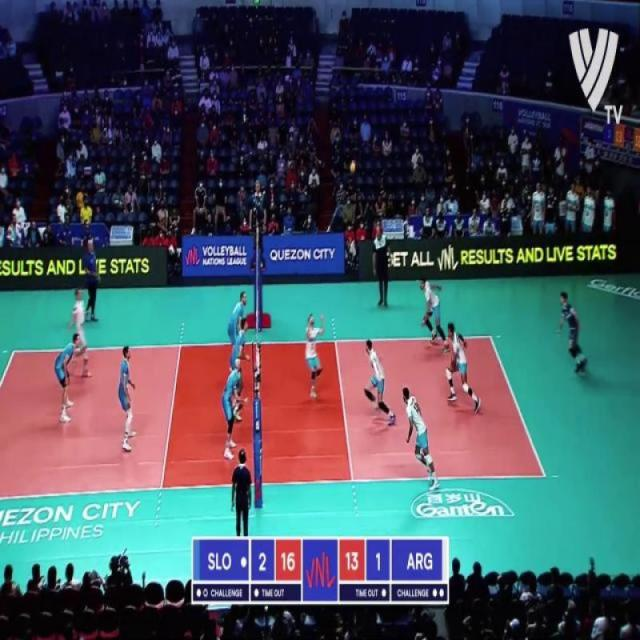volleyball: (349, 161, 356, 174)
